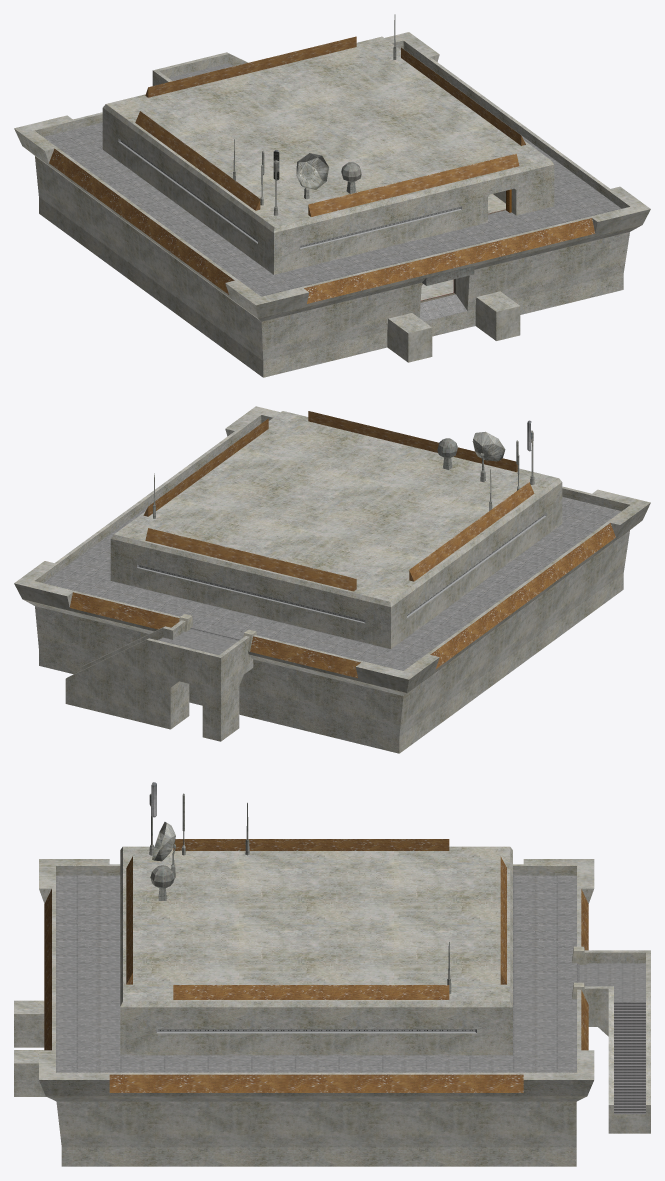
File: mun_all_military_base_police_station_rebl_s01_r0_mesh_l0_r0.fbx
The picture shows the model from 3 angles, top to bottom: view 1: azimuth 30°, elevation 25°; view 2: azimuth 150°, elevation 25°; view 3: azimuth 270°, elevation 25°; orthographic projection. The views are drawn at different scales.
Visible parts, largest first — view 1: mesh_node; view 2: mesh_node; view 3: mesh_node.
Part boxes in pixels (x1,y1,x2,y2): mesh_node: (14, 14, 650, 377); mesh_node: (14, 406, 650, 753); mesh_node: (14, 782, 650, 1166).
Bounding box in the file's own units: 49.31 × 22.07 × 60.
